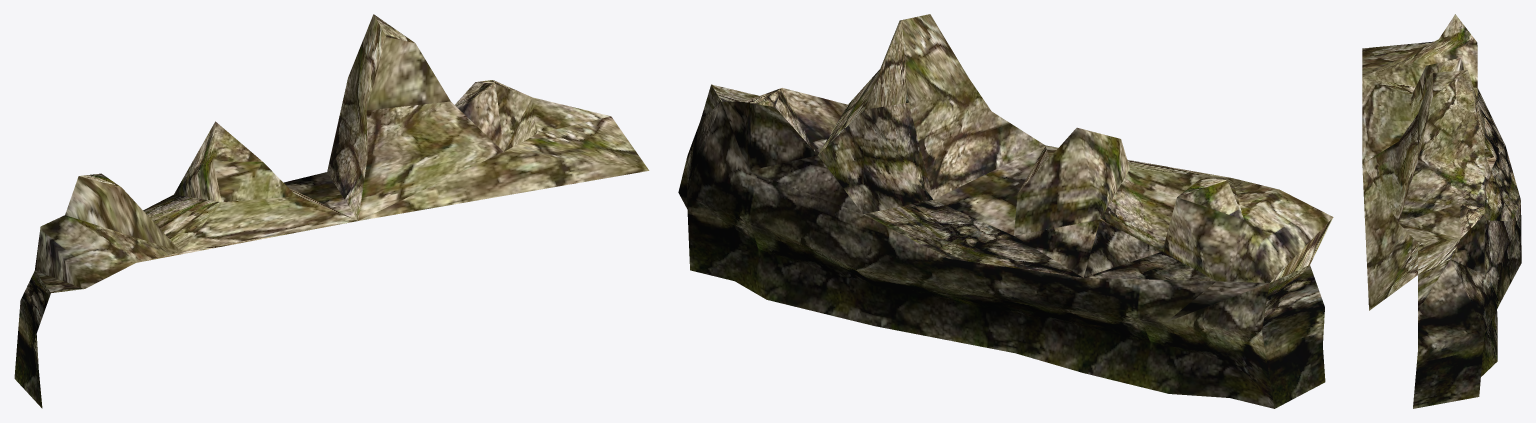
Rendered from cj_rich_stone02.glb.
3 renders of one model, left to right at view 1: azimuth 30°, elevation 25°; view 2: azimuth 150°, elevation 25°; view 3: azimuth 270°, elevation 25°, orthographic. The views are drawn at different scales.
Parts seen in each view (by area): view 1: CJ_rich_stone02; view 2: CJ_rich_stone02; view 3: CJ_rich_stone02.
Part boxes in pixels (x1,y1,x2,y2): CJ_rich_stone02: [14, 14, 649, 408]; CJ_rich_stone02: [678, 14, 1333, 408]; CJ_rich_stone02: [1362, 14, 1521, 408].
Size of the model in its own units: 7.06 by 3.1 by 1.83.
1 material, 1 textured.
